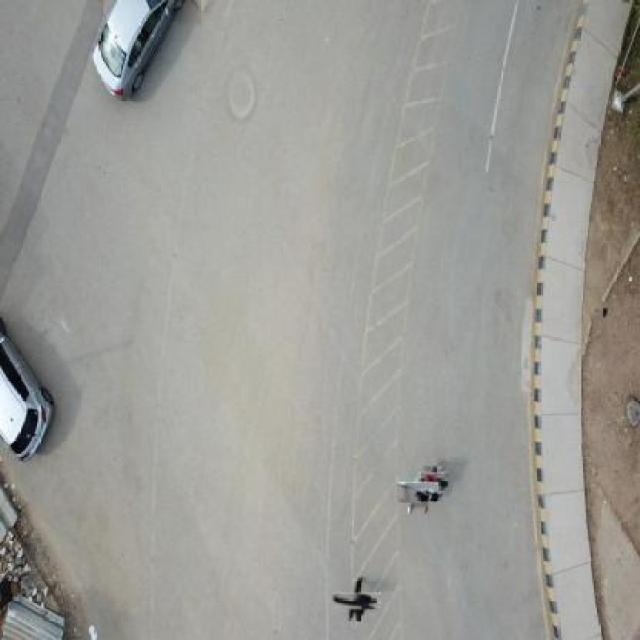Person: (341, 584, 374, 618), (402, 477, 436, 509), (422, 469, 446, 494)
